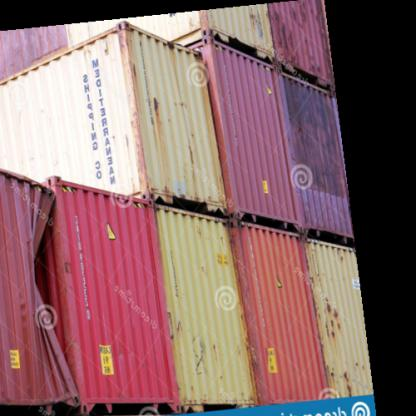Damage: (16, 206, 77, 366)
